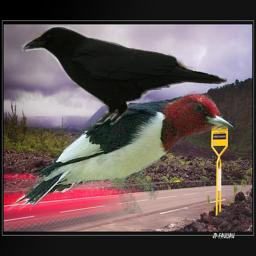Crow: (17, 21, 227, 125)
Woodpecker: (7, 83, 242, 220)
